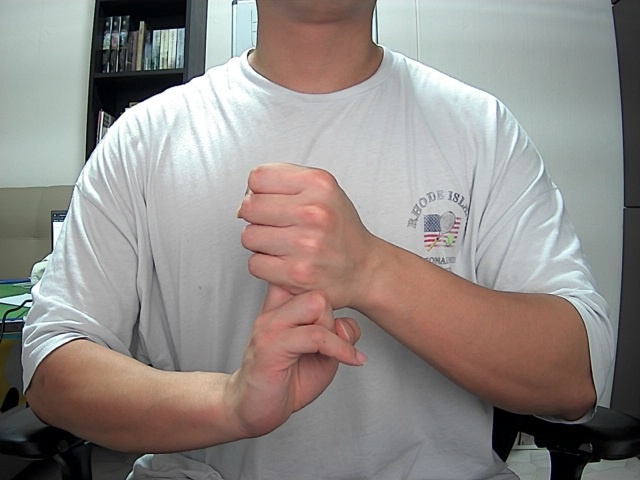Rat: (209, 140, 387, 442)
